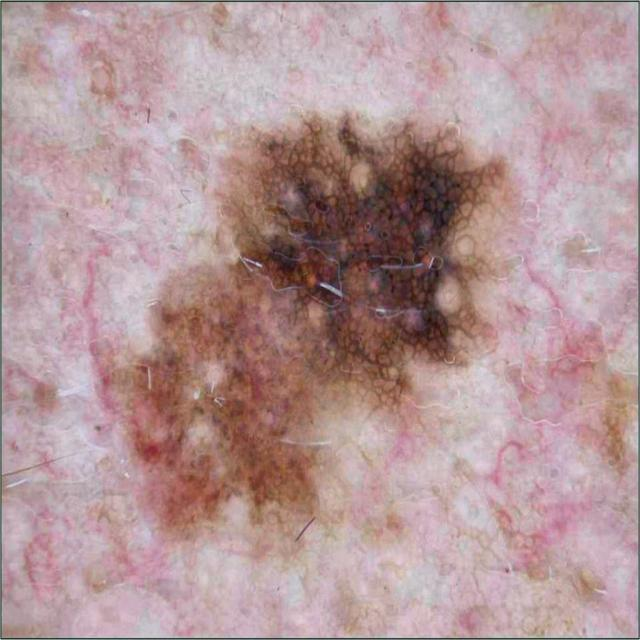Melanocytic-Nevi-NV-: (89, 87, 580, 567)
